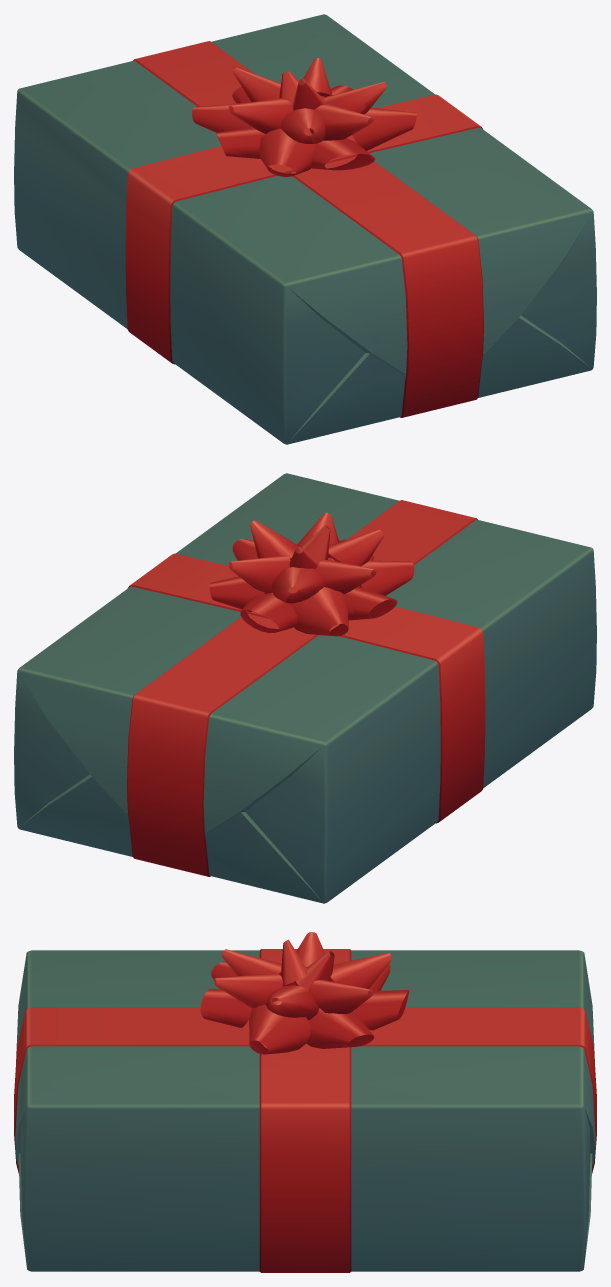
The picture shows the model from 3 angles, top to bottom: view 1: azimuth 30°, elevation 25°; view 2: azimuth 150°, elevation 25°; view 3: azimuth 270°, elevation 25°; orthographic projection. The views are drawn at different scales.
Visible parts, largest first — view 1: Box, Ribbon_Ribbon_0; view 2: Box, Ribbon_Ribbon_0; view 3: Box, Ribbon_Ribbon_0.
Boxes of the visible parts, box(x1,y1,x2,y2) form: Box: box(14, 14, 596, 444); Ribbon_Ribbon_0: box(125, 41, 483, 417); Box: box(14, 473, 596, 903); Ribbon_Ribbon_0: box(127, 500, 485, 876); Box: box(15, 950, 595, 1271); Ribbon_Ribbon_0: box(14, 932, 596, 1272).
Size of the model in its own units: 31.15 by 22.83 by 47.92.
3 materials, 3 textured.
